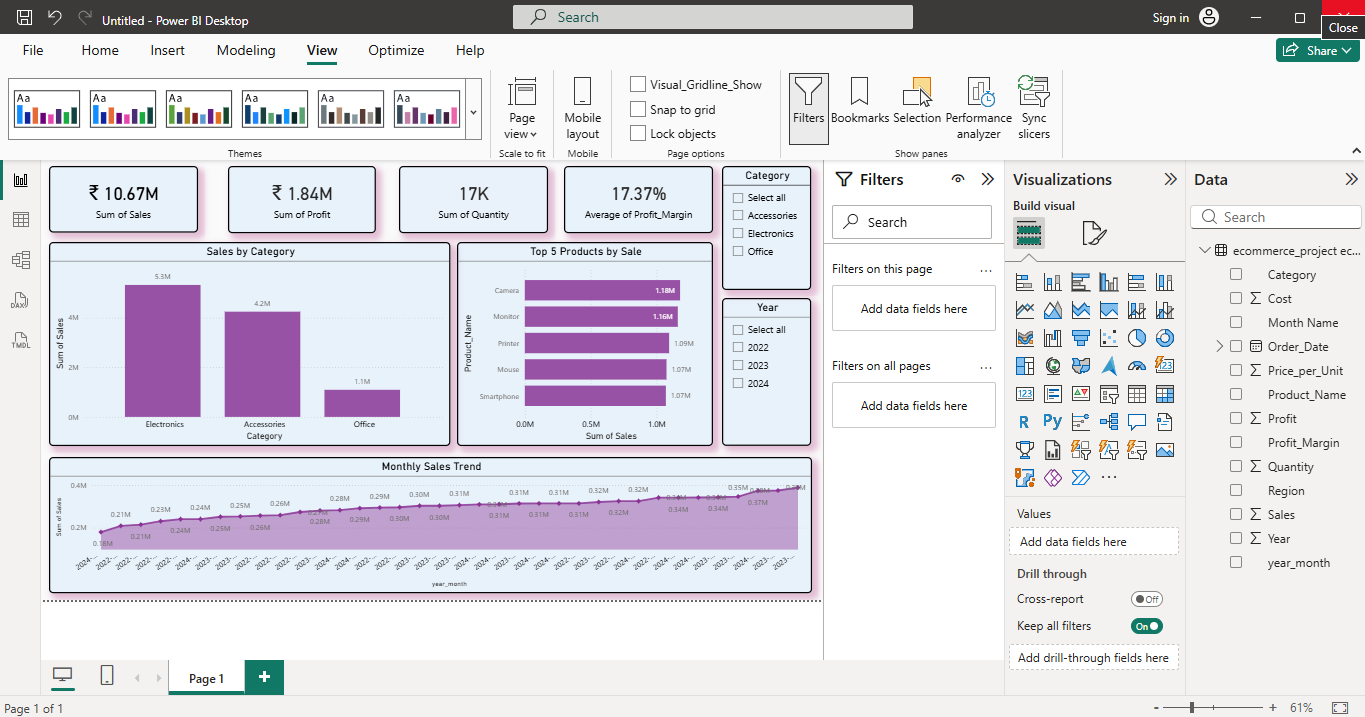

This screenshot's page, from the dashboard's own definition file:
{"tool":"powerbi","page":{"name":"Page 1","canvas":[1280,720],"ordinal":0},"visuals":[{"type":"card","fields":{"Values":["Sum(ecommerce_project ecomm_view.Sales)"]},"box":[13.4,10.1,243.6,109.2],"z":0},{"type":"card","fields":{"Values":["Sum(ecommerce_project ecomm_view.Profit)"]},"box":[306.1,9.8,242.3,109.7],"z":1000},{"type":"card","fields":{"Values":["Avg(ecommerce_project ecomm_view.Profit_Margin)"]},"box":[856.1,9.8,243.9,109.7],"z":2000},{"type":"card","fields":{"Values":["Sum(ecommerce_project ecomm_view.Quantity)"]},"box":[586,9.8,243.9,109.7],"z":3000},{"type":"clusteredColumnChart","title":"Sales by Category","fields":{"Category":["ecommerce_project ecomm_view.Category"],"Y":["Sum(ecommerce_project ecomm_view.Sales)"]},"box":[13.4,134.4,656.8,334.3],"z":4000},{"type":"lineChart","title":"Monthly Sales Trend","fields":{"Category":["ecommerce_project ecomm_view.year_month"],"Y":["Sum(ecommerce_project ecomm_view.Sales)"]},"box":[13.1,486.1,1248.9,222.6],"z":5000},{"type":"clusteredBarChart","title":"Top 5 Products by Sale","fields":{"Category":["ecommerce_project ecomm_view.Product_Name"],"Y":["Sum(ecommerce_project ecomm_view.Sales)"]},"box":[680.9,134.2,419,333.9],"z":6000},{"type":"slicer","title":" Year","fields":{"Values":["ecommerce_project ecomm_view.Year"]},"box":[1114.7,225.9,145.7,242.3],"z":7000},{"type":"slicer","title":"Category","fields":{"Values":["ecommerce_project ecomm_view.Category"]},"box":[1114.7,9.8,145.7,203],"z":8000}]}

Visuals, with their boxes on the page's 1280x720 design canvas (x1, y1, x2, y2). These are canvas units, not pixel positions in the 1365x717 screenshot, which may show the page scaled, cropped or inside an application window:
card - Sum(ecommerce_project ecomm_view.Sales): <region>13, 10, 257, 119</region>
card - Sum(ecommerce_project ecomm_view.Profit): <region>306, 10, 548, 120</region>
card - Avg(ecommerce_project ecomm_view.Profit_Margin): <region>856, 10, 1100, 120</region>
card - Sum(ecommerce_project ecomm_view.Quantity): <region>586, 10, 830, 120</region>
"Sales by Category" clusteredColumnChart: <region>13, 134, 670, 469</region>
"Monthly Sales Trend" lineChart: <region>13, 486, 1262, 709</region>
"Top 5 Products by Sale" clusteredBarChart: <region>681, 134, 1100, 468</region>
" Year" slicer: <region>1115, 226, 1260, 468</region>
"Category" slicer: <region>1115, 10, 1260, 213</region>
